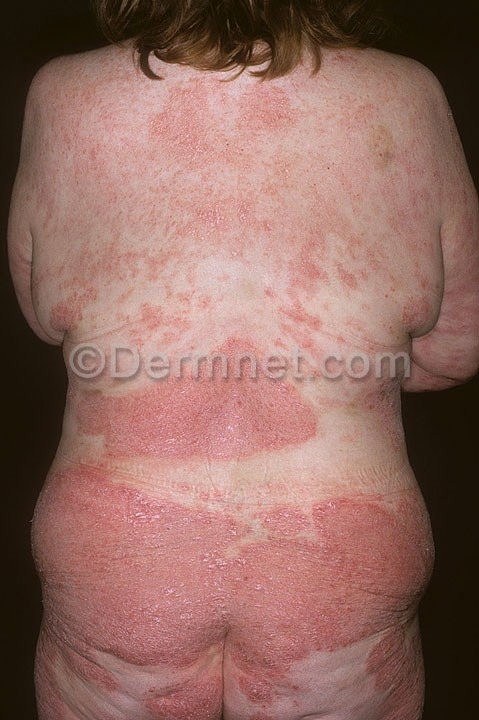Psoriasis: (38, 478, 430, 720), (50, 343, 332, 470), (141, 77, 294, 275)
